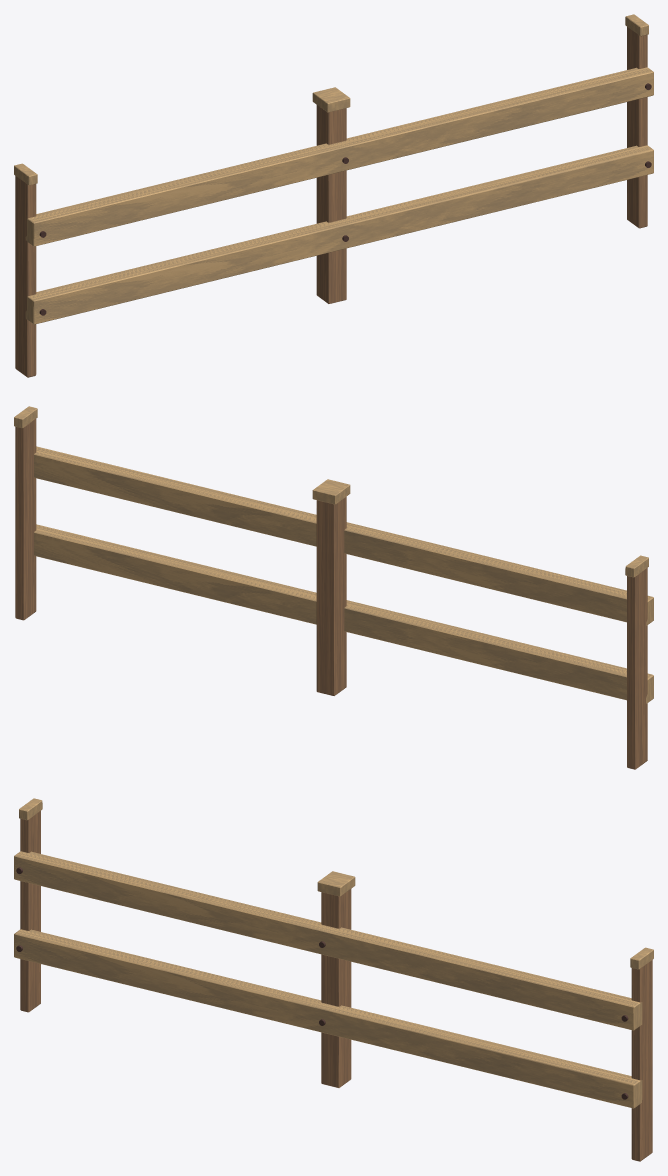
The model's file is fence.glb.
3 views of the same model, one above another, from view 1: azimuth 30°, elevation 25°; view 2: azimuth 150°, elevation 25°; view 3: azimuth 330°, elevation 25° (orthographic).
Visible parts, largest first — view 1: fence; view 2: fence; view 3: fence.
Boxes of the visible parts, bbox=[...] form: fence: bbox=[14, 14, 653, 377]; fence: bbox=[14, 406, 653, 769]; fence: bbox=[14, 798, 653, 1161].
Bounding box in the file's own units: 4 × 1.25 × 0.2497.
Materials: 1 (1 with a texture image).
